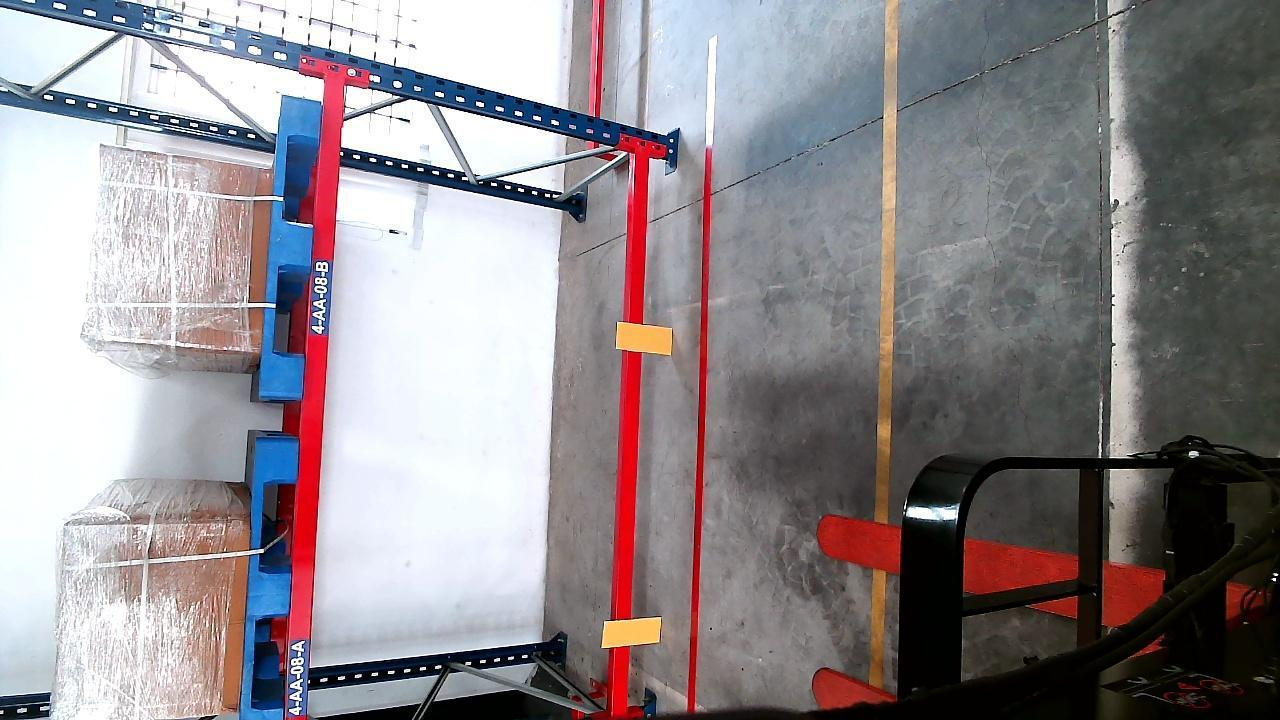h_rack: (287, 80, 344, 700), (614, 153, 652, 710)
orange_strip: (605, 616, 661, 648), (619, 323, 674, 353)
red_line: (683, 110, 718, 707)
small_pallet: (261, 91, 317, 394), (244, 448, 296, 720)
yellow_line: (869, 0, 902, 693)
